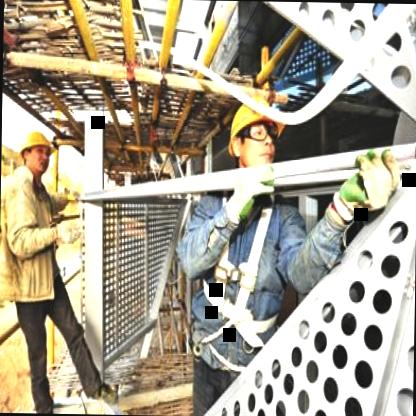helmet: (222, 90, 286, 173), (15, 123, 56, 178)
